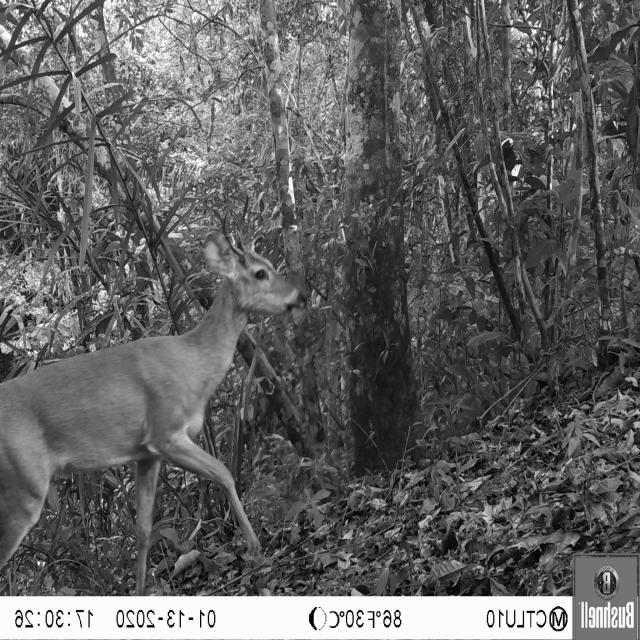White-tailed Deer: (0, 196, 302, 591)
